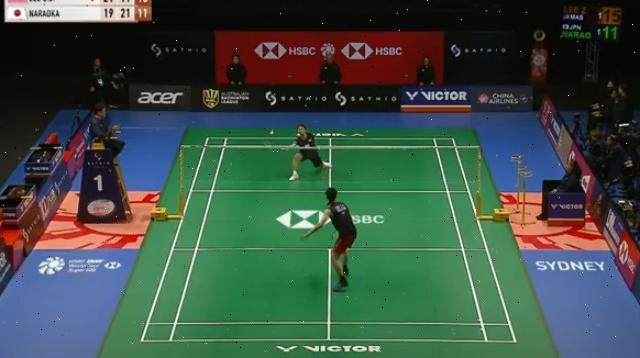Shuttlecock: (268, 126, 278, 138)
